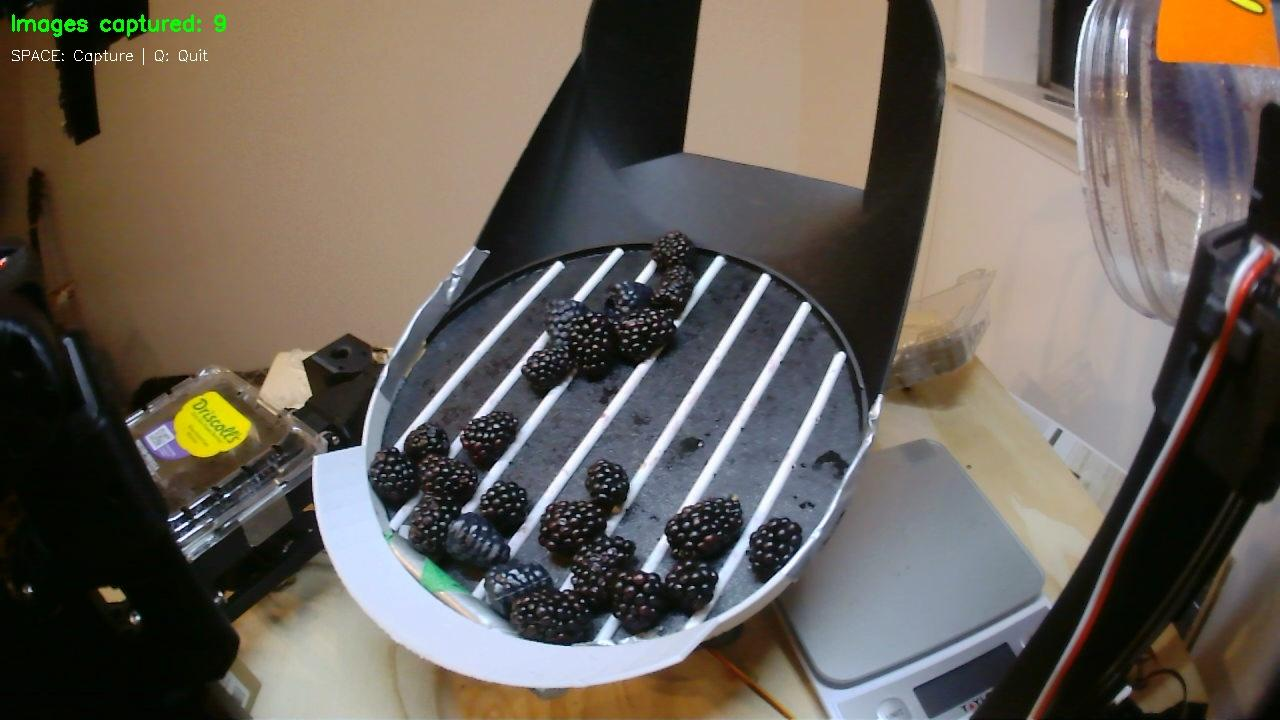berry: (665, 496, 743, 559), (572, 536, 634, 608), (510, 591, 592, 644), (539, 500, 606, 555), (485, 563, 553, 615), (446, 512, 509, 567), (749, 517, 803, 580), (407, 494, 460, 558), (612, 570, 666, 631), (461, 411, 518, 468), (616, 307, 675, 361), (569, 311, 617, 377), (369, 446, 420, 506), (666, 560, 718, 613), (419, 456, 477, 503), (477, 482, 528, 535), (522, 345, 572, 392), (585, 459, 629, 512), (604, 280, 652, 322), (653, 266, 695, 313), (546, 298, 586, 344), (651, 231, 694, 272), (403, 423, 450, 460)
